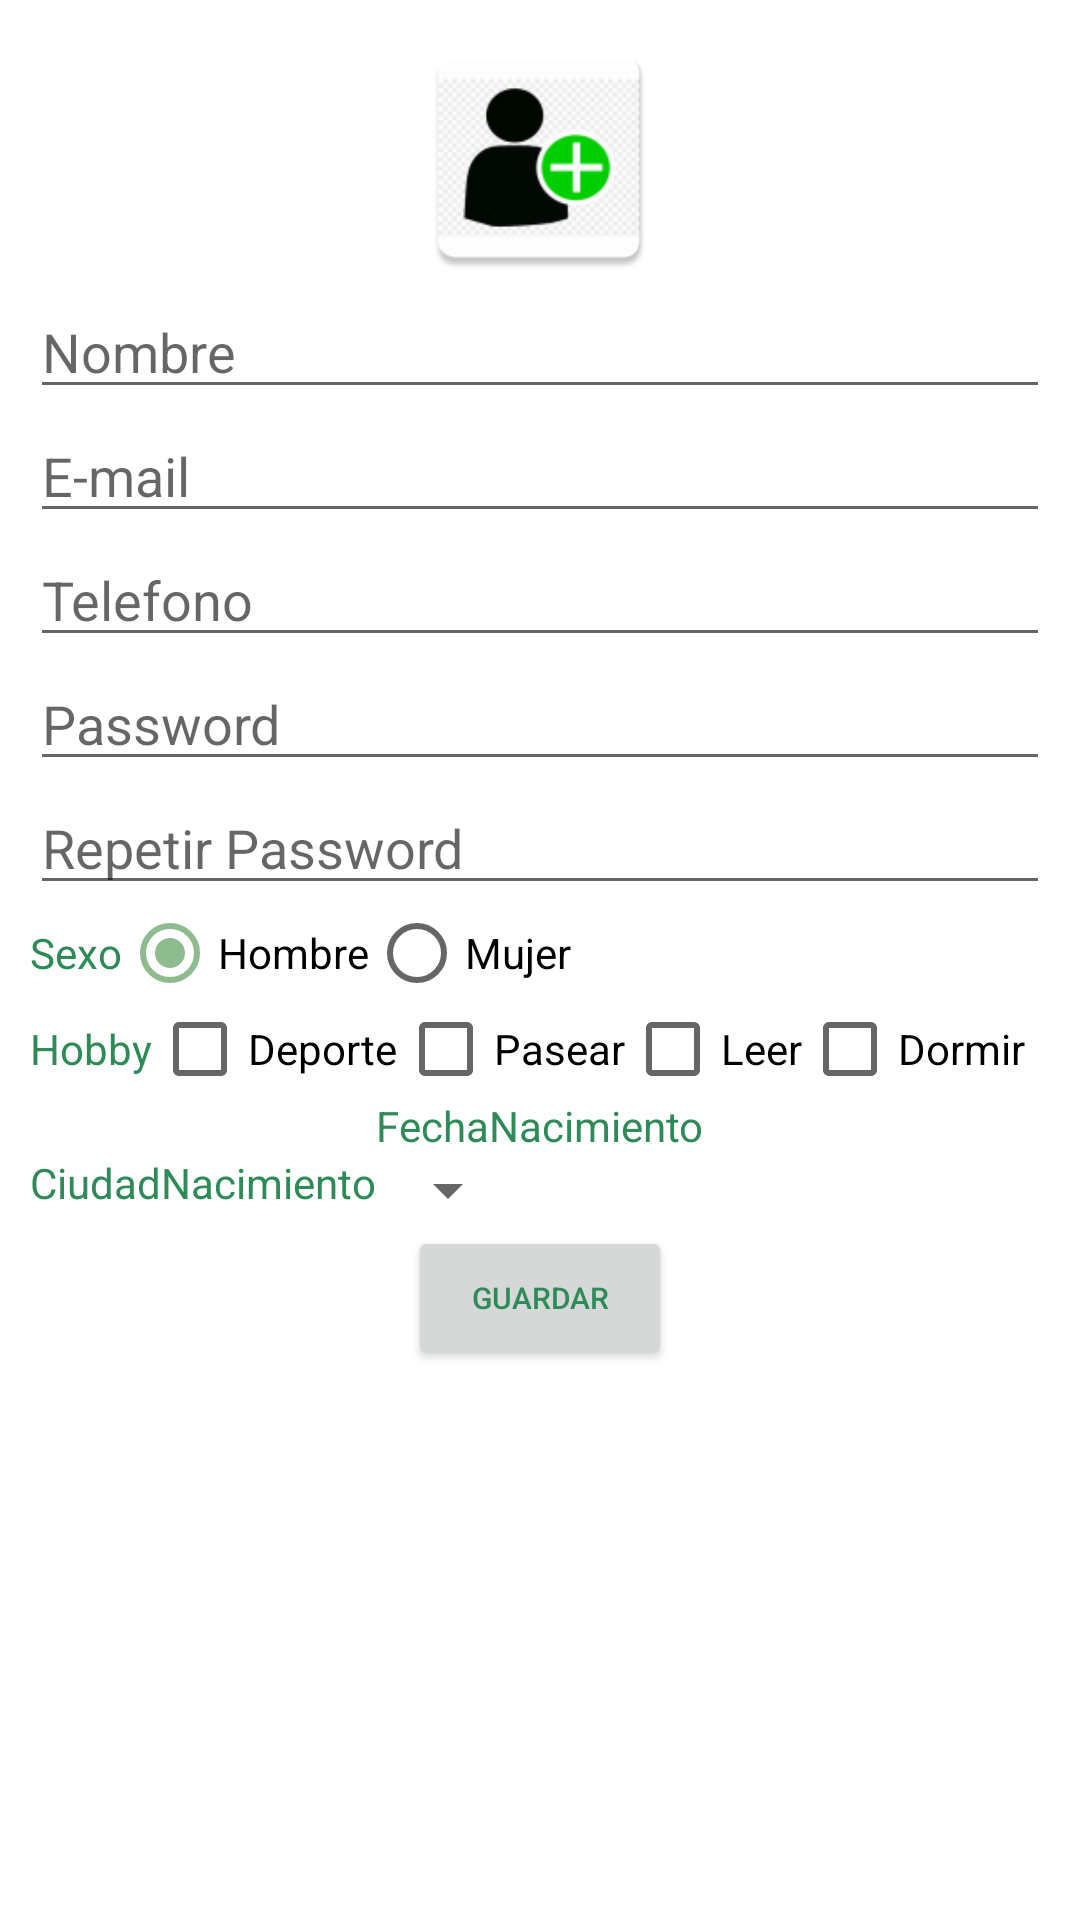

Icons on this 1080px x 1920px Android screen, each with its box as (x1, y1, x2, y2):
userregister: (438, 67, 642, 265)
